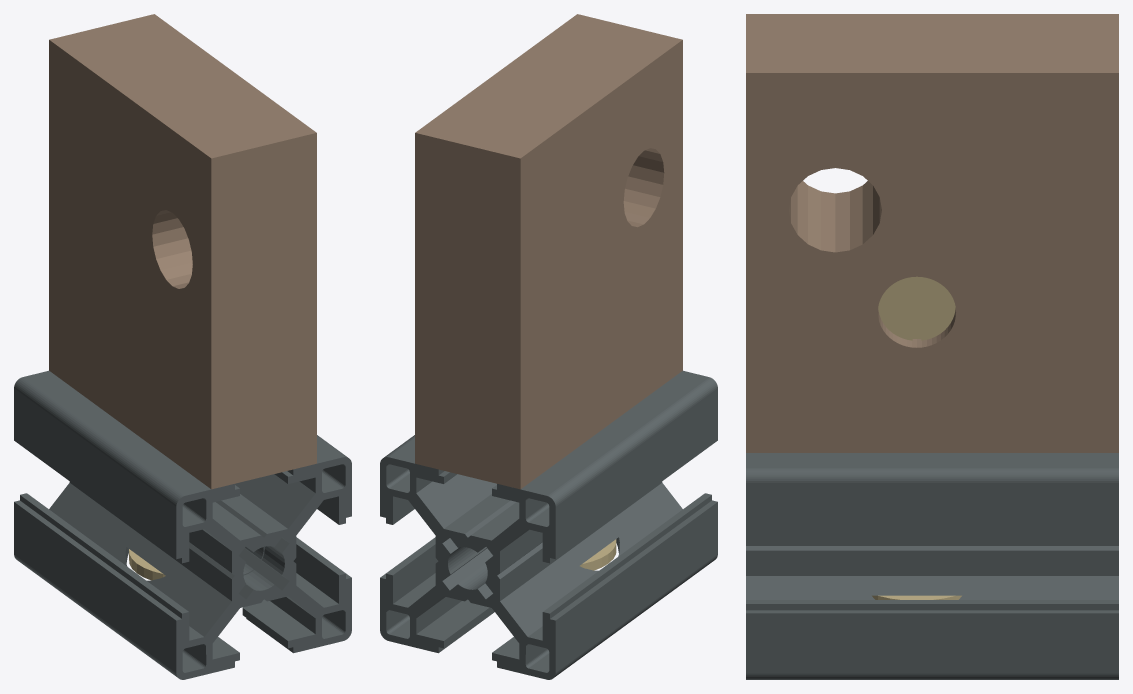
File: proposed-panel-joint.glb
3 views of the same model, side by side, from view 1: azimuth 30°, elevation 25°; view 2: azimuth 150°, elevation 25°; view 3: azimuth 270°, elevation 25° (orthographic). The views are drawn at different scales.
Visible parts, largest first — view 1: Left-pegboard-18, Beam-body-side-4, Pegboard-washer-Bottom-97; view 2: Left-pegboard-18, Beam-body-side-4, Pegboard-washer-Bottom-97; view 3: Left-pegboard-18, Beam-body-side-4, Pegboard-cross-dowel-Bottom-97.
Part boxes in pixels (x1,y1,x2,y2): Left-pegboard-18: [49, 14, 316, 489]; Beam-body-side-4: [14, 370, 351, 679]; Pegboard-washer-Bottom-97: [129, 549, 165, 580]; Left-pegboard-18: [415, 14, 682, 489]; Beam-body-side-4: [380, 370, 717, 679]; Pegboard-washer-Bottom-97: [580, 539, 616, 570]; Left-pegboard-18: [746, 14, 1118, 452]; Beam-body-side-4: [746, 453, 1118, 679]; Pegboard-cross-dowel-Bottom-97: [878, 276, 955, 340].
Size of the model in its own units: 0.03 by 0.084 by 0.048.
